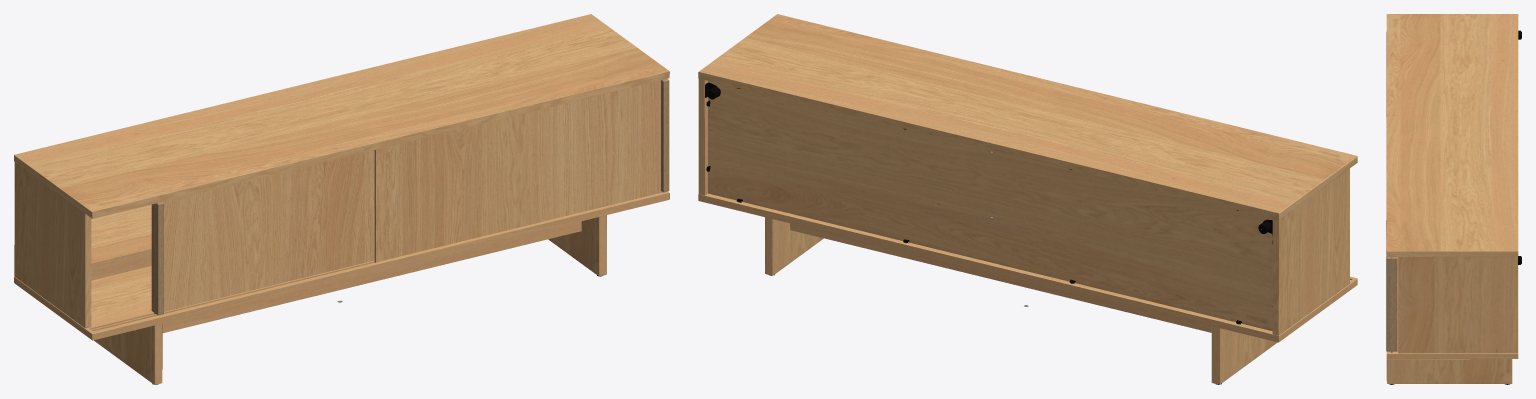
Rendered from stockholm_2025_awa_tv_z_drzwiami_przesuwnymi_40586508.glb.
3 renders of one model, left to right at view 1: azimuth 30°, elevation 25°; view 2: azimuth 150°, elevation 25°; view 3: azimuth 270°, elevation 25°, orthographic. The views are drawn at different scales.
Parts seen in each view (by area): view 1: stockholm_2025_awa_tv_z_drzwiami_przesuwnymi_40586508; view 2: stockholm_2025_awa_tv_z_drzwiami_przesuwnymi_40586508; view 3: stockholm_2025_awa_tv_z_drzwiami_przesuwnymi_40586508.
Boxes of the visible parts, x1=… form: stockholm_2025_awa_tv_z_drzwiami_przesuwnymi_40586508: x1=14, y1=14, x2=669, y2=384; stockholm_2025_awa_tv_z_drzwiami_przesuwnymi_40586508: x1=698, y1=14, x2=1357, y2=384; stockholm_2025_awa_tv_z_drzwiami_przesuwnymi_40586508: x1=1386, y1=14, x2=1521, y2=384.
Size of the model in its own units: 1.79 by 0.562 by 0.4323.
3 materials, 3 textured.
